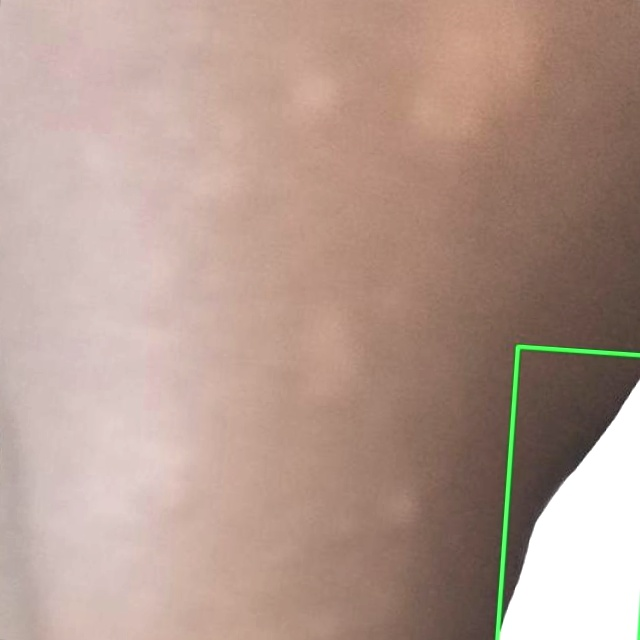Tinea Corporis: (496, 347, 639, 639)
